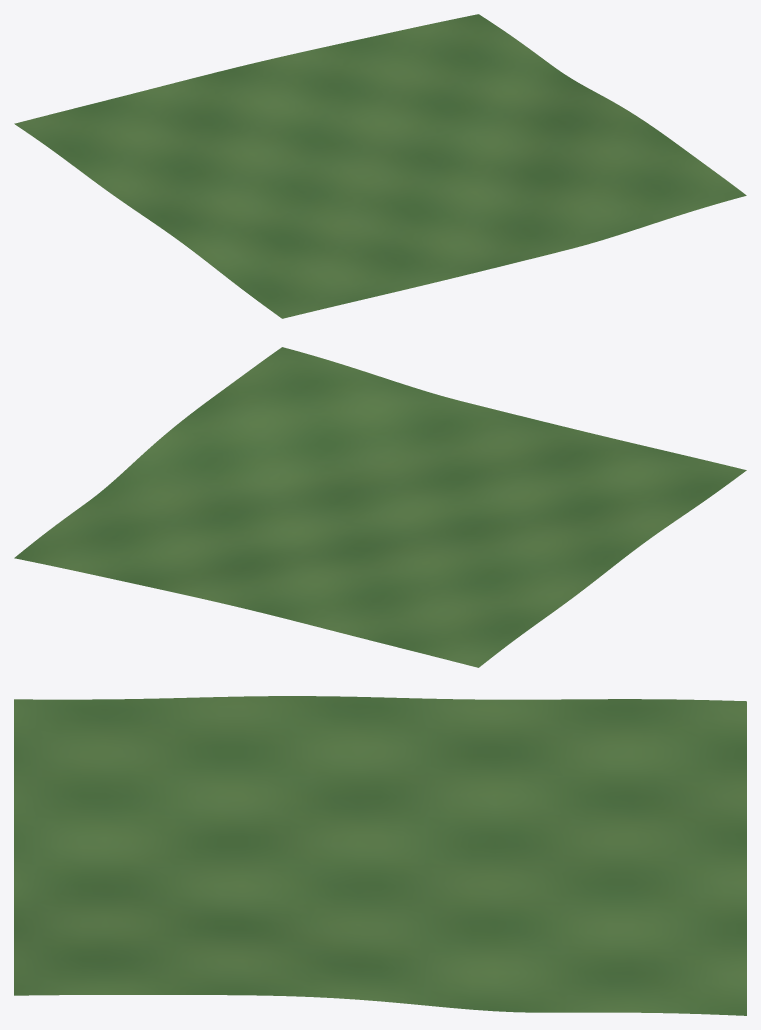
Rendered from chunk_2_8.glb.
The picture shows the model from 3 angles, top to bottom: view 1: azimuth 30°, elevation 25°; view 2: azimuth 150°, elevation 25°; view 3: azimuth 270°, elevation 25°; orthographic projection. The views are drawn at different scales.
Size of the model in its own units: 512 by 16.09 by 512.
